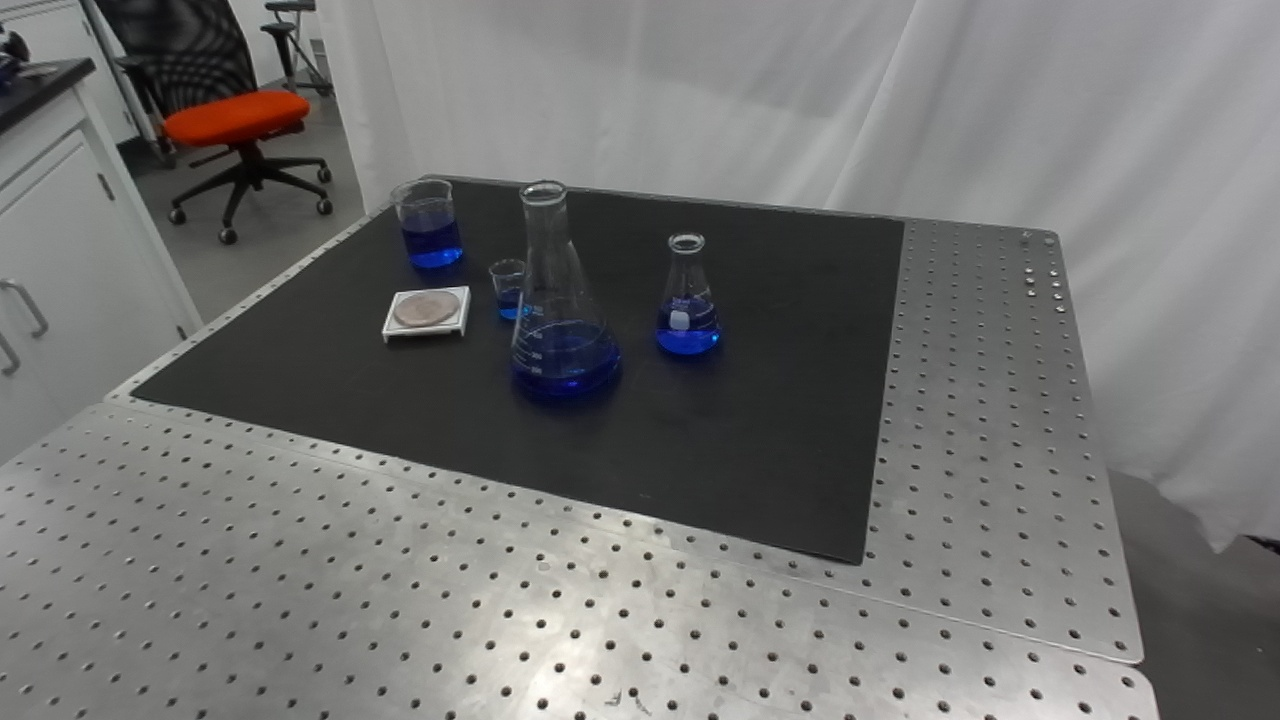glass: (500, 177, 625, 400), (647, 229, 722, 360), (390, 178, 464, 273), (490, 257, 538, 324)
plate: (380, 283, 472, 349)
